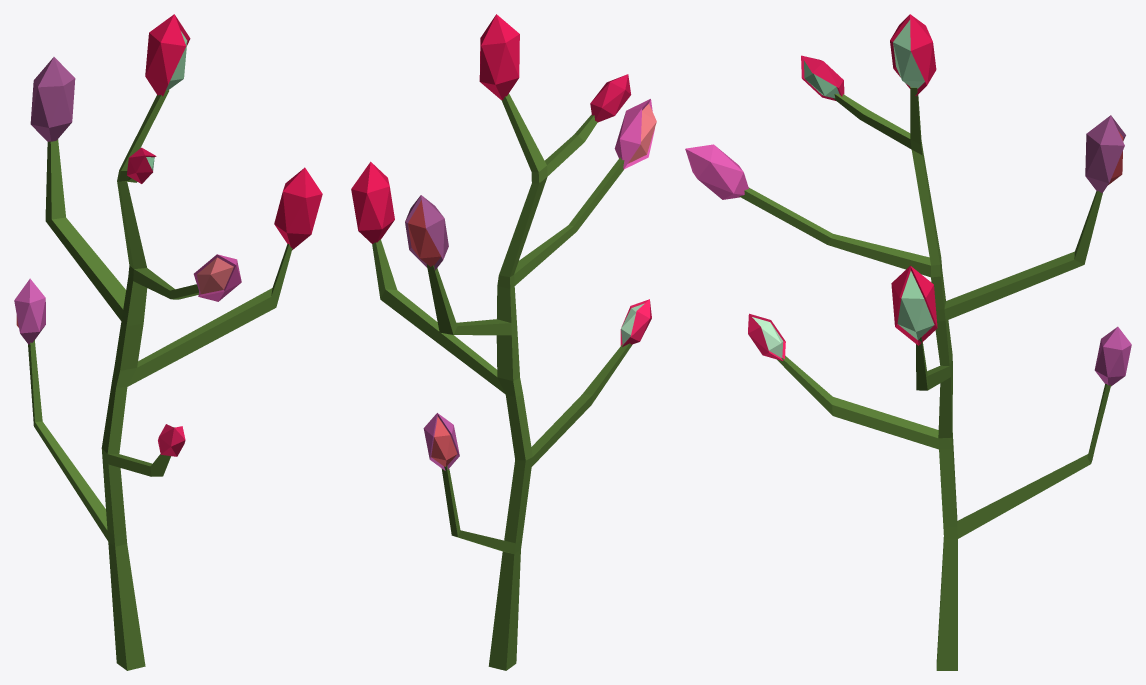
The model's file is Plant_04.fbx.
The picture shows the model from 3 angles, left to right: view 1: azimuth 30°, elevation 25°; view 2: azimuth 150°, elevation 25°; view 3: azimuth 270°, elevation 25°; orthographic projection. The views are drawn at different scales.
Visible parts, largest first — view 1: Plant_04; view 2: Plant_04; view 3: Plant_04.
Part boxes in pixels (left/top/right/bottom): Plant_04: left=14, top=14, right=322, bottom=670; Plant_04: left=351, top=14, right=656, bottom=670; Plant_04: left=685, top=14, right=1131, bottom=670.
Size of the model in its own units: 51.65 by 139 by 84.79.
